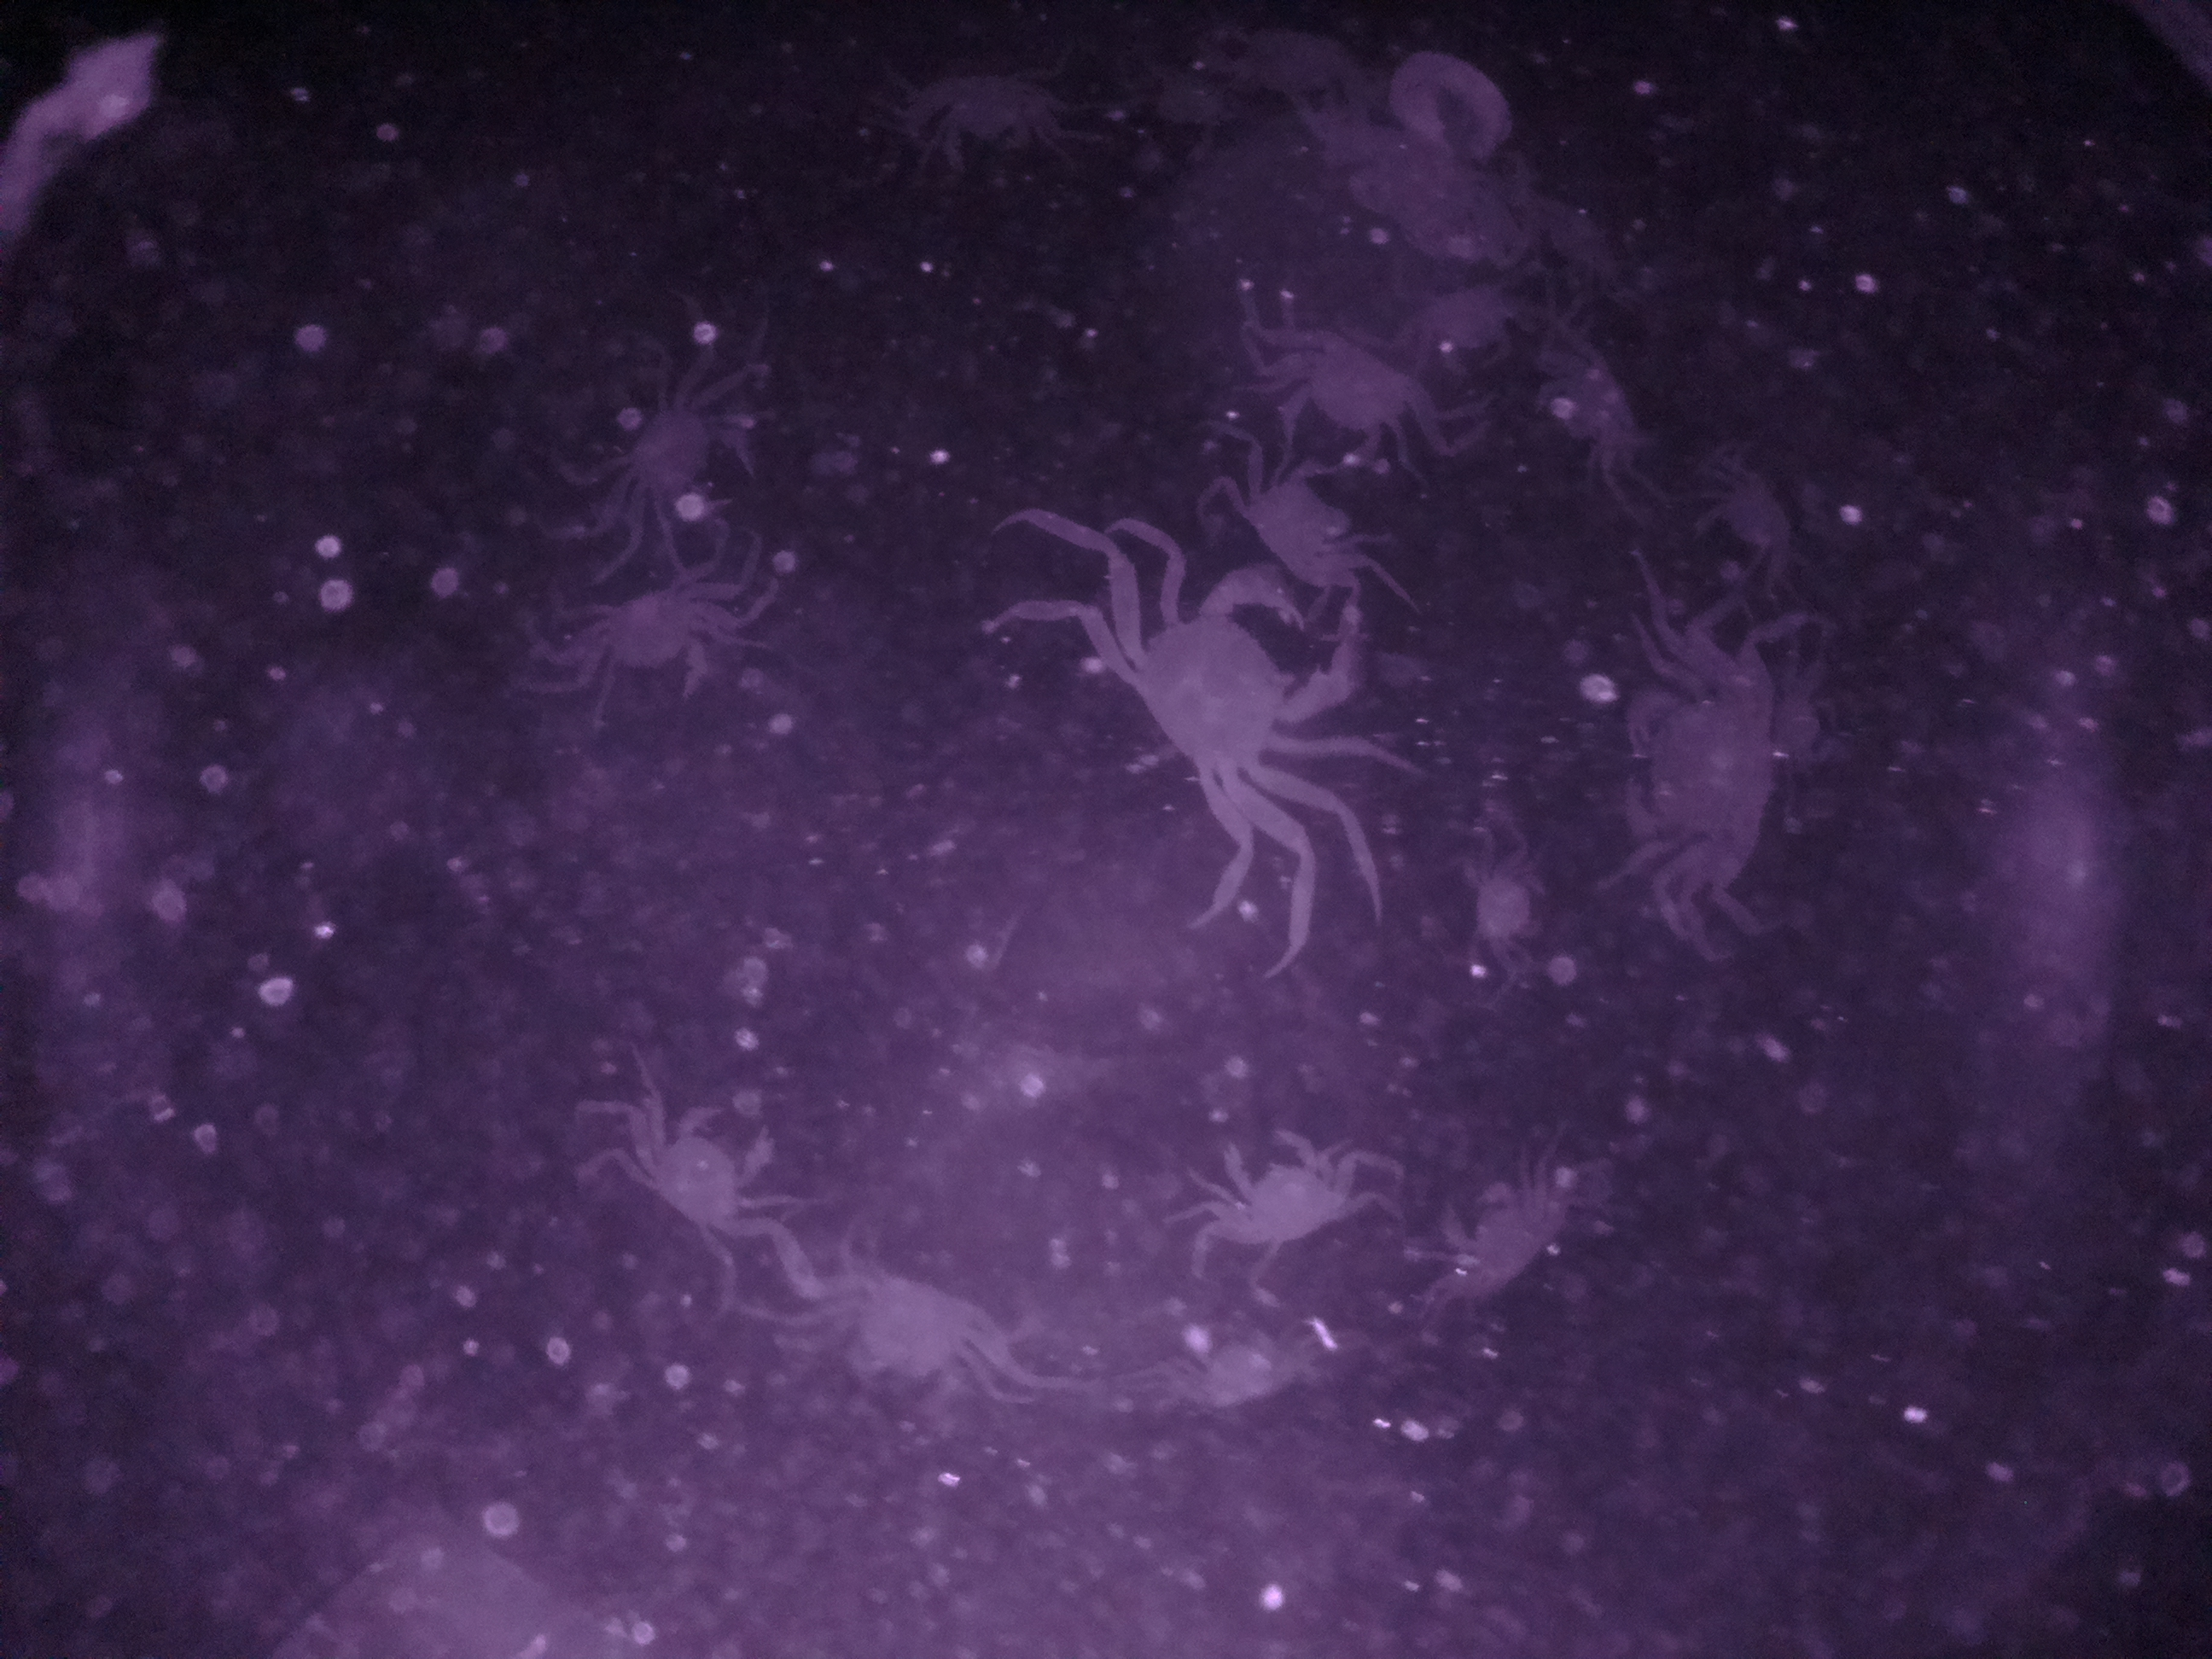Crab: (1076, 570, 1369, 835), (1588, 652, 1824, 882), (1251, 317, 1463, 493), (610, 1082, 794, 1272), (559, 572, 751, 739), (1195, 1108, 1366, 1255)
